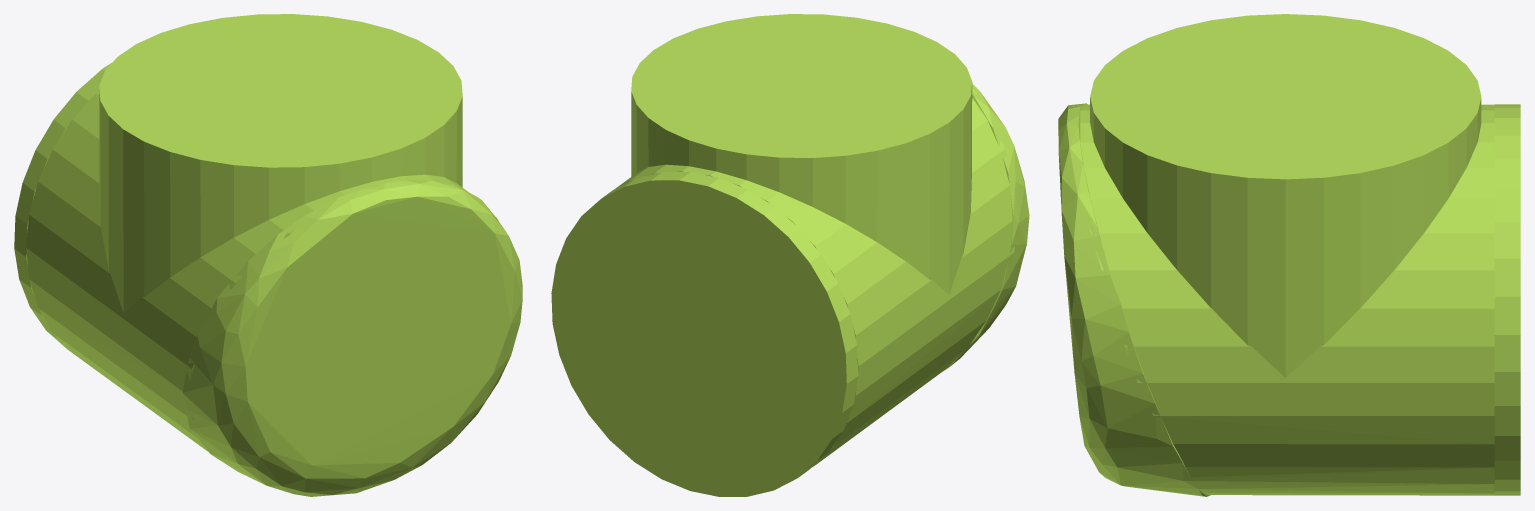
The picture shows the model from 3 angles, left to right: view 1: azimuth 30°, elevation 25°; view 2: azimuth 150°, elevation 25°; view 3: azimuth 270°, elevation 25°; orthographic projection. The views are drawn at different scales.
Visible parts, largest first — view 1: Node_0000017FEC30DAE0 (×4); view 2: Node_0000017FEC30DAE0 (×4); view 3: Node_0000017FEC30DAE0 (×4).
Part boxes in pixels (x1=…): Node_0000017FEC30DAE0 (×4): x1=14, y1=14, x2=522, y2=496; Node_0000017FEC30DAE0 (×4): x1=551, y1=14, x2=1029, y2=496; Node_0000017FEC30DAE0 (×4): x1=1058, y1=14, x2=1520, y2=496.
Bounding box in the file's own units: 0.1502 × 0.1615 × 0.1772.
